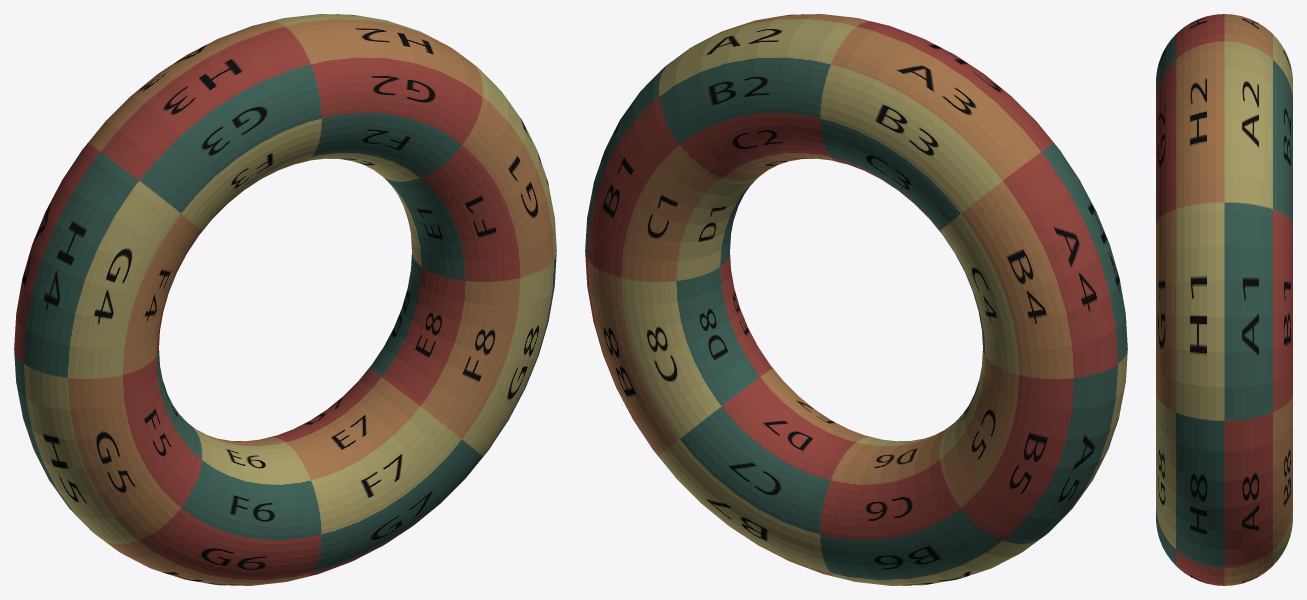
The model's file is texture_torus_R11_r13.glb.
The picture shows the model from 3 angles, left to right: view 1: azimuth 30°, elevation 25°; view 2: azimuth 150°, elevation 25°; view 3: azimuth 270°, elevation 25°; orthographic projection. The views are drawn at different scales.
Parts seen in each view (by area): view 1: world; view 2: world; view 3: world.
Part boxes in pixels (x1,y1,x2,y2): world: (14, 14, 556, 585); world: (585, 14, 1127, 585); world: (1156, 14, 1292, 585).
Bounding box in the file's own units: 22.8 × 22.76 × 5.46.
1 material, 1 textured.
